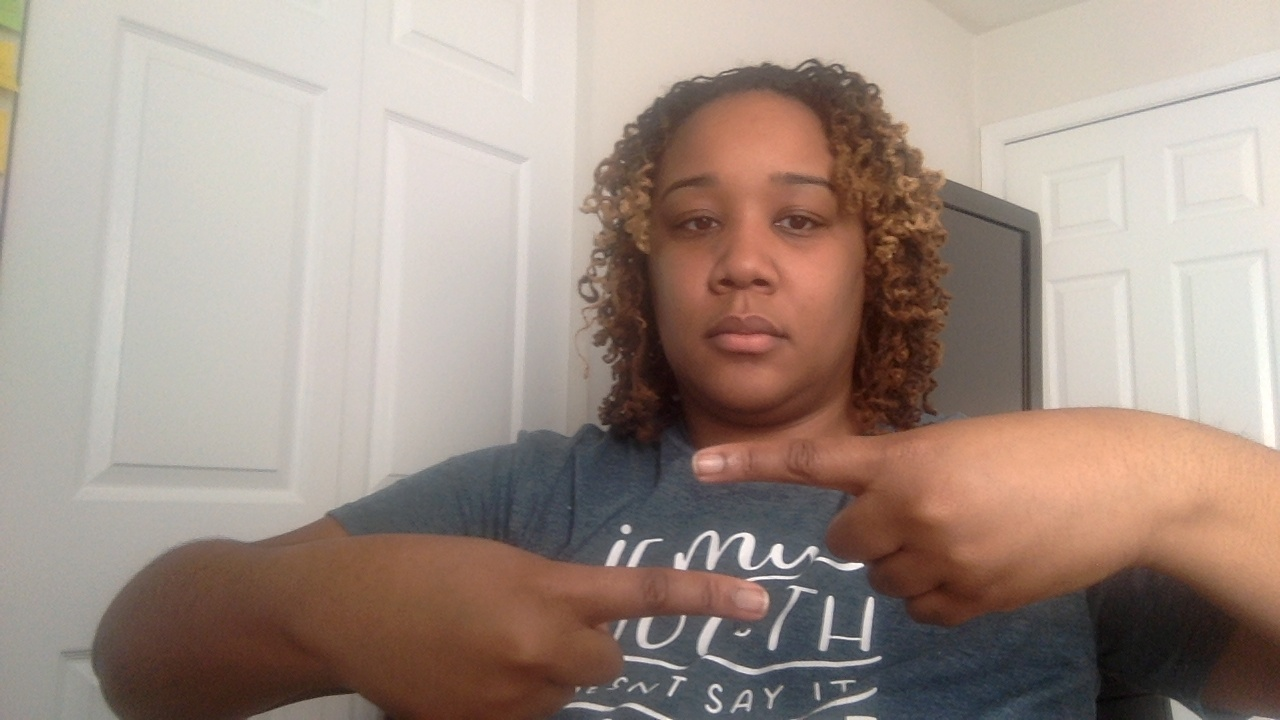go: (85, 410, 1280, 720)
